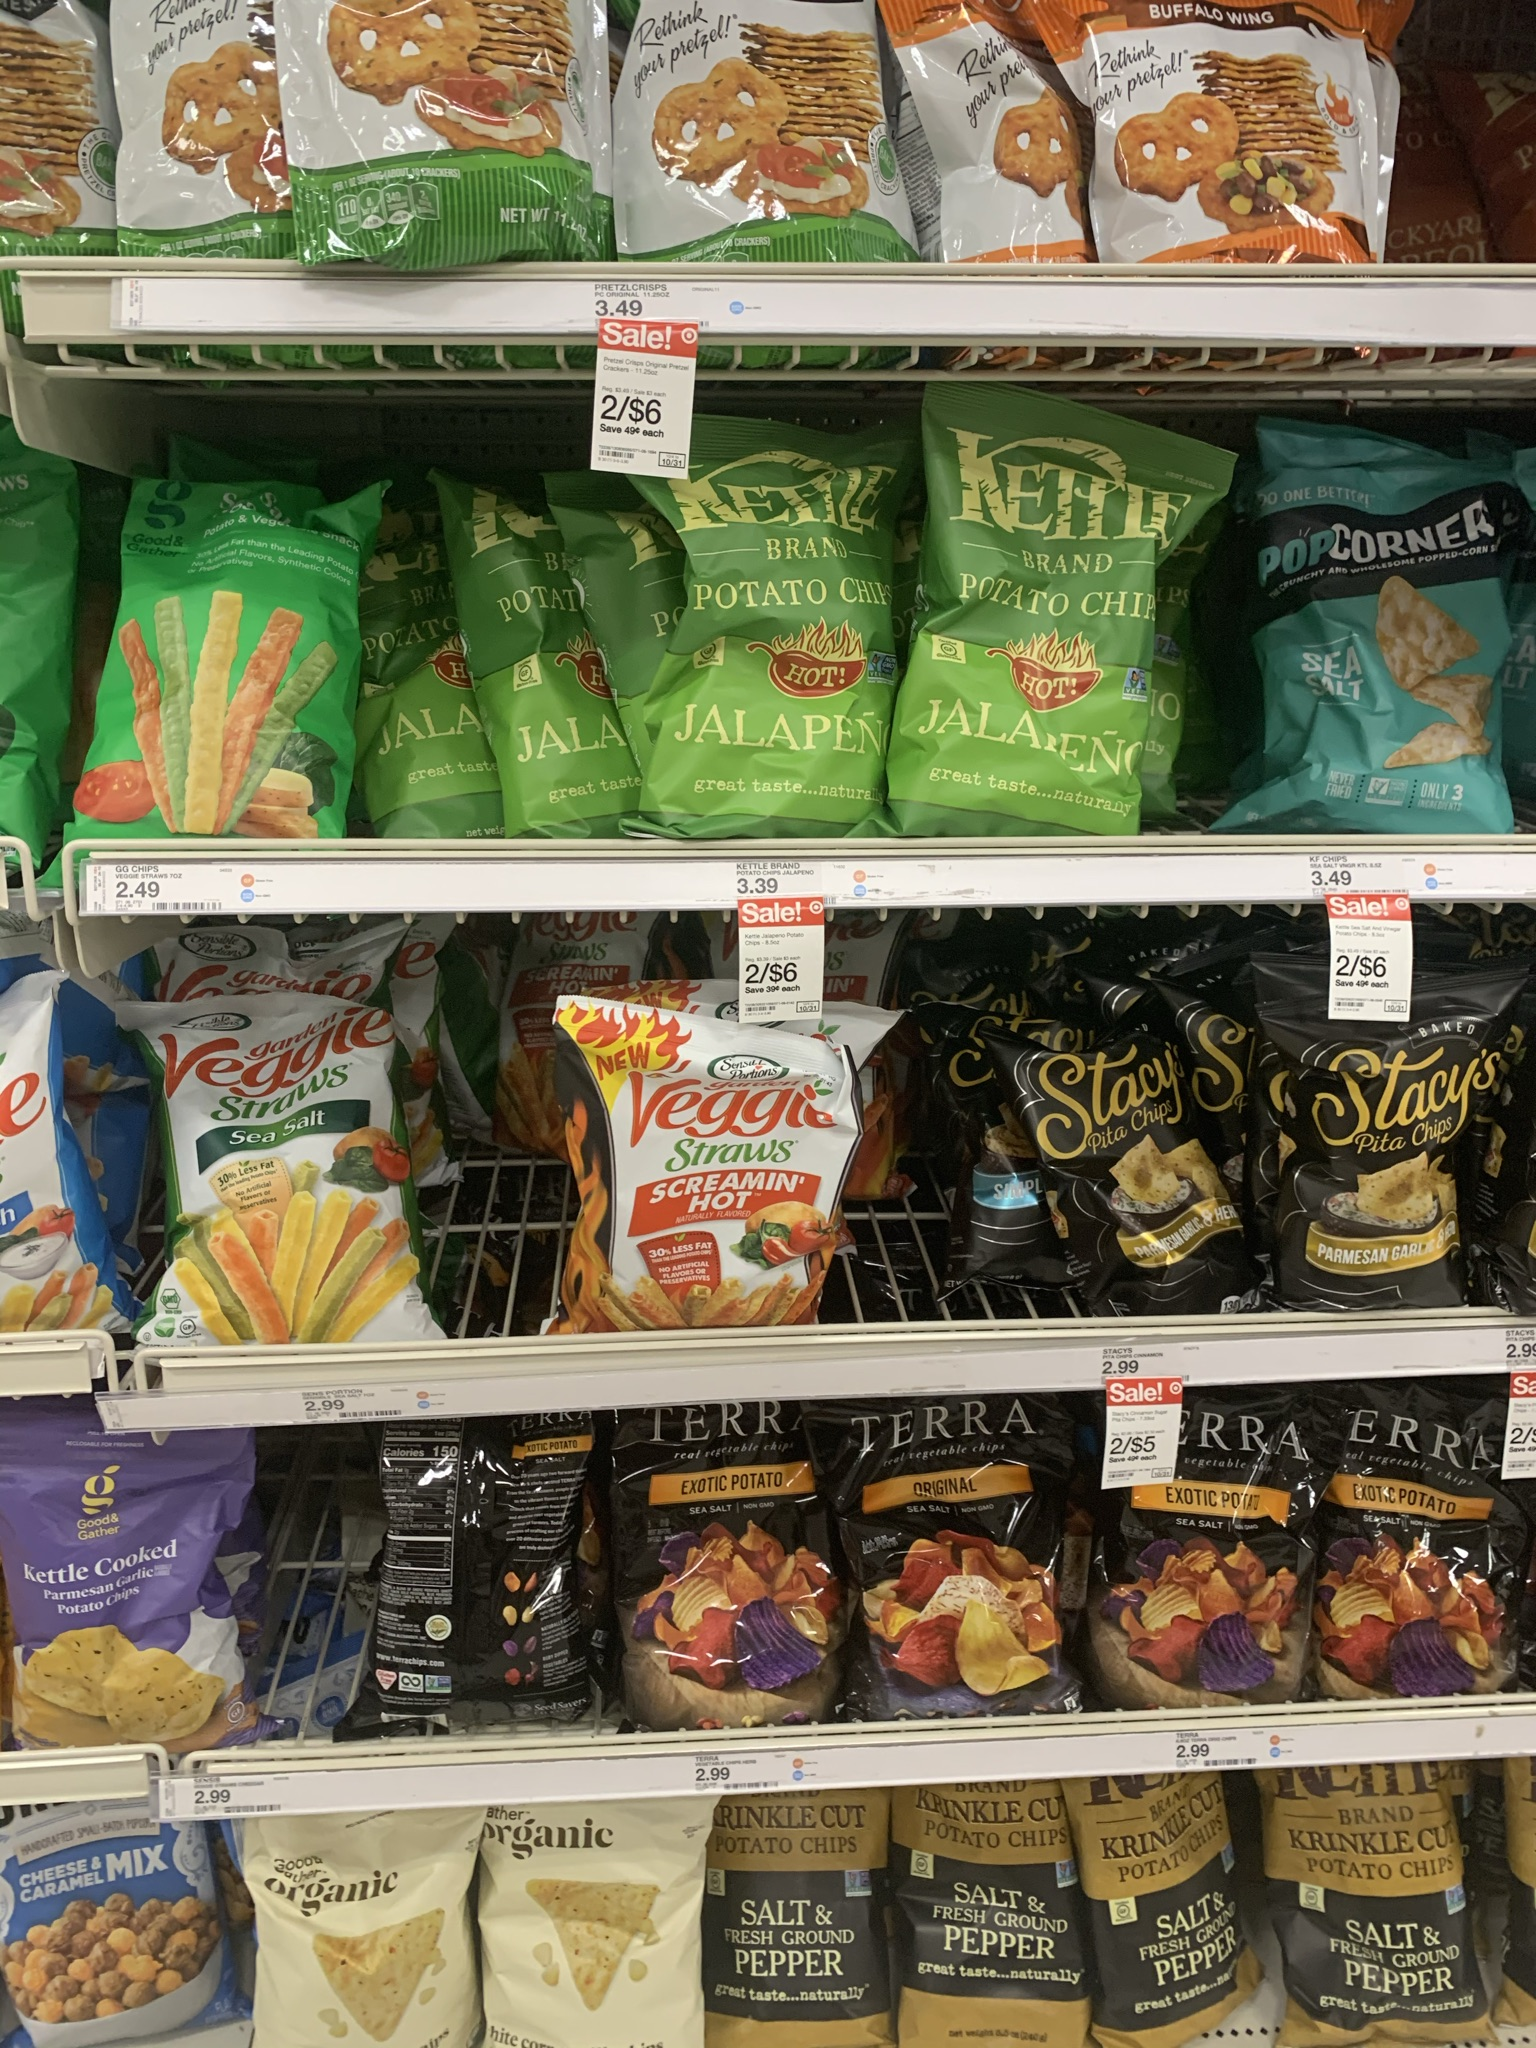chip: (136, 993, 436, 1361), (552, 997, 849, 1335), (925, 381, 1146, 826), (684, 439, 899, 835), (815, 1401, 1079, 1716), (126, 477, 350, 843), (286, 2, 608, 244), (11, 1442, 257, 1751), (1252, 977, 1483, 1306), (1097, 2, 1379, 255), (637, 2, 913, 255), (1325, 1385, 1536, 1709), (999, 1035, 1239, 1319), (1265, 1761, 1484, 2048), (616, 1409, 826, 1708), (394, 1427, 587, 1727), (1120, 1398, 1300, 1717), (471, 1816, 699, 2048), (239, 1816, 465, 2048), (900, 1785, 1086, 2048), (712, 1798, 886, 2048), (1086, 1775, 1249, 2042)
